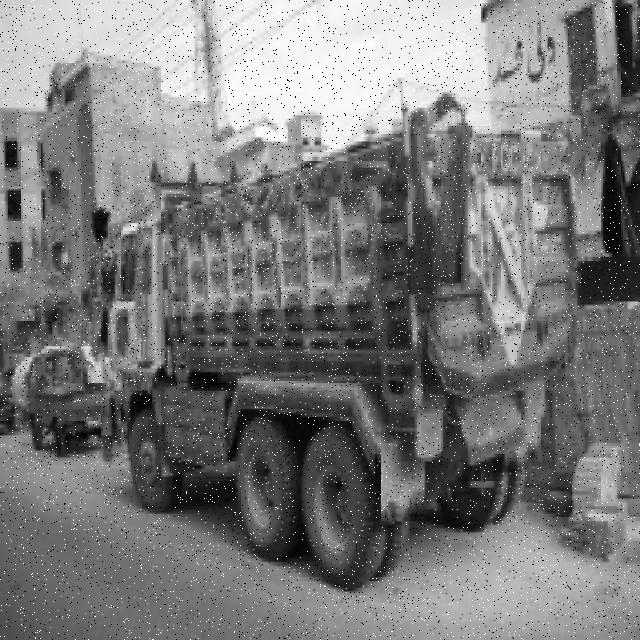Box Truck: (101, 95, 579, 593)
